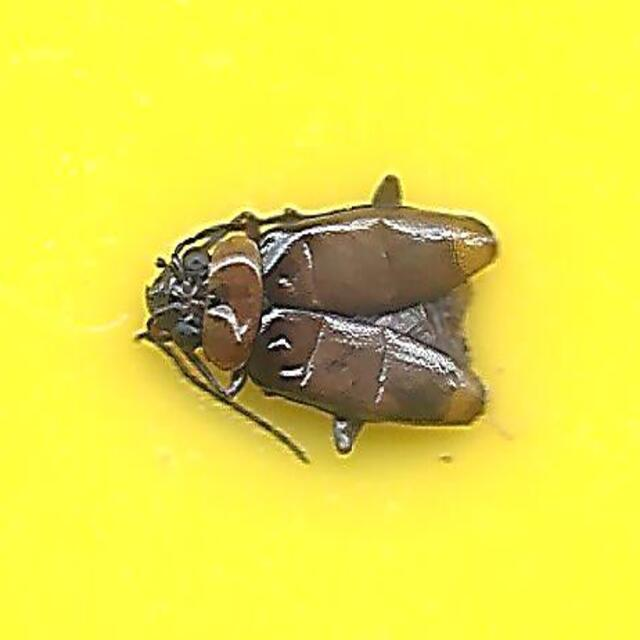Coleoptera: (139, 175, 501, 465)
